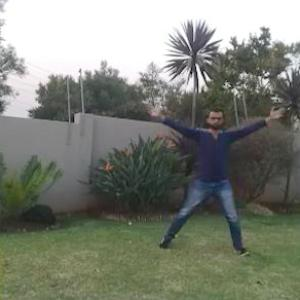takeoff: (126, 99, 265, 258)
